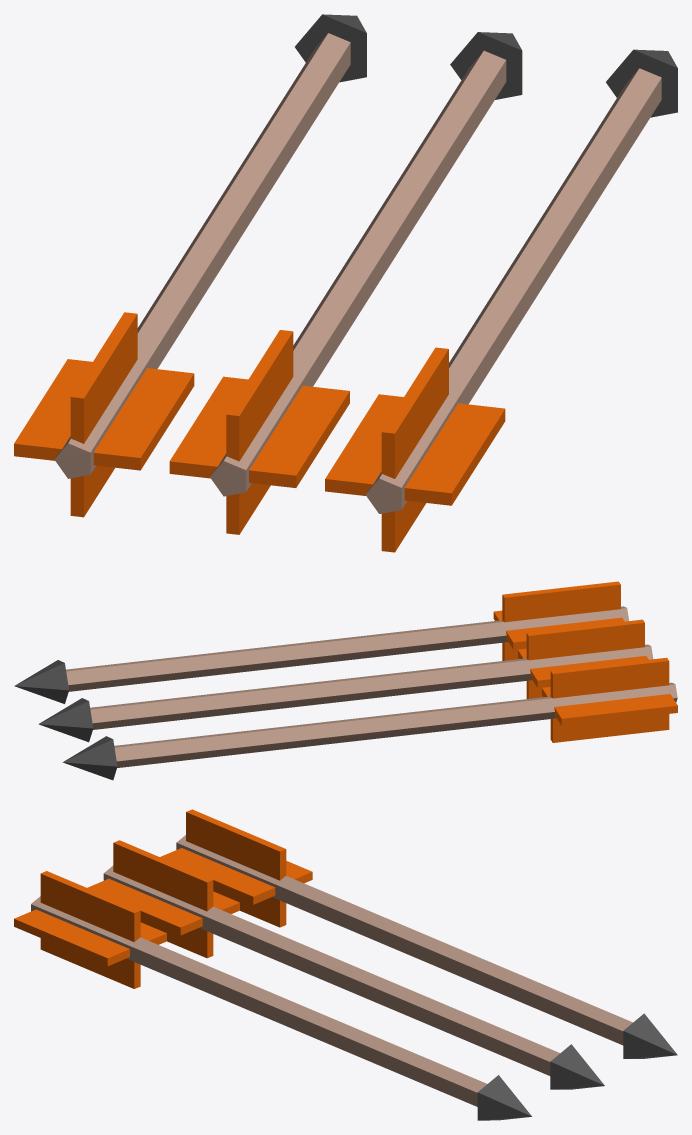
File: ce_ammo2_greatjar_flame_b.obj
3 renders of one model, top to bottom at view 1: azimuth 30°, elevation 25°; view 2: azimuth 150°, elevation 25°; view 3: azimuth 270°, elevation 25°, orthographic. The views are drawn at different scales.
Parts seen in each view (by area): view 1: ce_ammo2_greatjar_flame_b_4, ce_ammo2_greatjar_flame_b_0, ce_ammo2_greatjar_flame_b_8, ce_ammo2_greatjar_flame_b_6, ce_ammo2_greatjar_flame_b_2, ce_ammo2_greatjar_flame_b_10, ce_ammo2_greatjar_flame_b_3, ce_ammo2_greatjar_flame_b_11, ce_ammo2_greatjar_flame_b_7, ce_ammo2_greatjar_flame_b_5, ce_ammo2_greatjar_flame_b_1, ce_ammo2_greatjar_flame_b_9; view 2: ce_ammo2_greatjar_flame_b_0, ce_ammo2_greatjar_flame_b_4, ce_ammo2_greatjar_flame_b_8, ce_ammo2_greatjar_flame_b_3, ce_ammo2_greatjar_flame_b_11, ce_ammo2_greatjar_flame_b_7, ce_ammo2_greatjar_flame_b_2, ce_ammo2_greatjar_flame_b_1, ce_ammo2_greatjar_flame_b_5, ce_ammo2_greatjar_flame_b_9, ce_ammo2_greatjar_flame_b_10, ce_ammo2_greatjar_flame_b_6; view 3: ce_ammo2_greatjar_flame_b_4, ce_ammo2_greatjar_flame_b_0, ce_ammo2_greatjar_flame_b_8, ce_ammo2_greatjar_flame_b_11, ce_ammo2_greatjar_flame_b_3, ce_ammo2_greatjar_flame_b_7, ce_ammo2_greatjar_flame_b_10, ce_ammo2_greatjar_flame_b_2, ce_ammo2_greatjar_flame_b_6, ce_ammo2_greatjar_flame_b_9, ce_ammo2_greatjar_flame_b_5, ce_ammo2_greatjar_flame_b_1.
Boxes of the visible parts, left/top/right/bottom form: ce_ammo2_greatjar_flame_b_4: left=210, top=50, right=506, bottom=496; ce_ammo2_greatjar_flame_b_0: left=54, top=33, right=350, bottom=478; ce_ammo2_greatjar_flame_b_8: left=365, top=68, right=661, bottom=513; ce_ammo2_greatjar_flame_b_6: left=169, top=376, right=349, bottom=487; ce_ammo2_greatjar_flame_b_2: left=14, top=359, right=194, bottom=470; ce_ammo2_greatjar_flame_b_10: left=325, top=394, right=505, bottom=505; ce_ammo2_greatjar_flame_b_3: left=70, top=312, right=137, bottom=517; ce_ammo2_greatjar_flame_b_11: left=381, top=347, right=448, bottom=552; ce_ammo2_greatjar_flame_b_7: left=226, top=330, right=293, bottom=534; ce_ammo2_greatjar_flame_b_5: left=450, top=32, right=522, bottom=99; ce_ammo2_greatjar_flame_b_1: left=295, top=14, right=366, bottom=82; ce_ammo2_greatjar_flame_b_9: left=606, top=49, right=677, bottom=117; ce_ammo2_greatjar_flame_b_0: left=114, top=682, right=677, bottom=767; ce_ammo2_greatjar_flame_b_4: left=90, top=644, right=653, bottom=729; ce_ammo2_greatjar_flame_b_8: left=66, top=606, right=628, bottom=691; ce_ammo2_greatjar_flame_b_3: left=550, top=657, right=669, bottom=742; ce_ammo2_greatjar_flame_b_11: left=502, top=581, right=620, bottom=660; ce_ammo2_greatjar_flame_b_7: left=526, top=619, right=644, bottom=698; ce_ammo2_greatjar_flame_b_2: left=542, top=687, right=677, bottom=725; ce_ammo2_greatjar_flame_b_1: left=62, top=736, right=117, bottom=780; ce_ammo2_greatjar_flame_b_5: left=38, top=698, right=93, bottom=742; ce_ammo2_greatjar_flame_b_9: left=14, top=660, right=69, bottom=703; ce_ammo2_greatjar_flame_b_10: left=493, top=610, right=624, bottom=649; ce_ammo2_greatjar_flame_b_6: left=518, top=648, right=648, bottom=687; ce_ammo2_greatjar_flame_b_4: left=103, top=865, right=560, bottom=1075; ce_ammo2_greatjar_flame_b_0: left=176, top=835, right=632, bottom=1045; ce_ammo2_greatjar_flame_b_8: left=31, top=896, right=486, bottom=1106; ce_ammo2_greatjar_flame_b_11: left=40, top=871, right=140, bottom=988; ce_ammo2_greatjar_flame_b_3: left=186, top=809, right=286, bottom=927; ce_ammo2_greatjar_flame_b_7: left=113, top=840, right=213, bottom=958; ce_ammo2_greatjar_flame_b_10: left=14, top=909, right=166, bottom=966; ce_ammo2_greatjar_flame_b_2: left=160, top=848, right=312, bottom=904; ce_ammo2_greatjar_flame_b_6: left=87, top=878, right=239, bottom=935; ce_ammo2_greatjar_flame_b_9: left=477, top=1075, right=531, bottom=1120; ce_ammo2_greatjar_flame_b_5: left=550, top=1044, right=604, bottom=1089; ce_ammo2_greatjar_flame_b_1: left=623, top=1013, right=677, bottom=1058.
Size of the model in its own units: 0.903 by 0.114 by 0.903.
